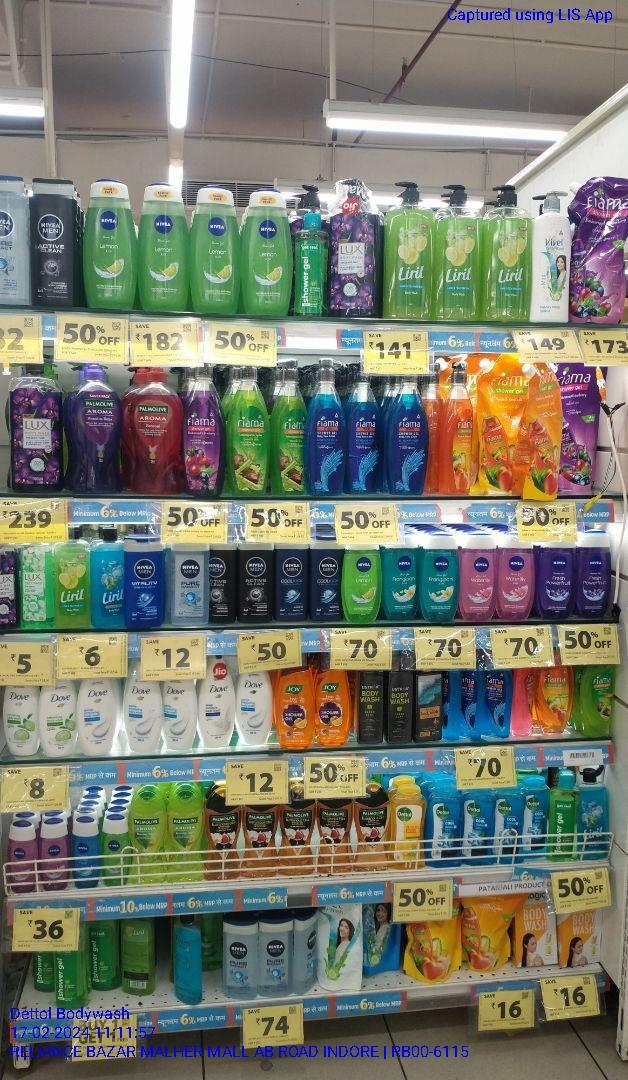Dove_Deep_Moisture_Body_Wash_250ML: (201, 658, 233, 749)
Dove_Gentle_Exfoliating_Body_Wash_250ML: (234, 673, 273, 746), (78, 678, 114, 756), (124, 677, 159, 756), (163, 682, 196, 750)
Dove_Refreshing_Body_Wash_250ML: (3, 684, 39, 757), (41, 681, 75, 756)
Joy_Shower_Gel_Mandarin_and_Lemongrass_250ML: (276, 665, 313, 750), (317, 669, 352, 744)
Liril_Cooling_Mint_Body_Wash_250ML: (93, 528, 126, 628)
Liril_Lime_and_Tea_Tree_Oil_Body_Wash_250ML: (54, 528, 90, 629)
Lux_Black_Orchid_Scent_and_Juniper_Oil_Body_Wash_245ML: (1, 545, 19, 629)
Lux_Body_Wash_Skin_Detox_Freesia_Scent_and_Alove_Vera_245ML: (22, 544, 52, 629)
Nivea_Shower_Gel_Frangipani_and_Oil_250ML: (382, 535, 420, 619), (423, 532, 458, 621)
Nivea_Shower_Gel_Fresh_Powerfruit_250ML: (539, 531, 574, 621), (576, 531, 609, 618)
Nivea_Shower_Gel_Lemon_and_Oil_250ML: (83, 180, 136, 309), (193, 183, 242, 316), (139, 184, 190, 310), (245, 187, 294, 316), (341, 546, 381, 621)
Nivea_Shower_Gel_Waterlily_and_Oil_250ML: (462, 535, 497, 622), (500, 532, 533, 621)
